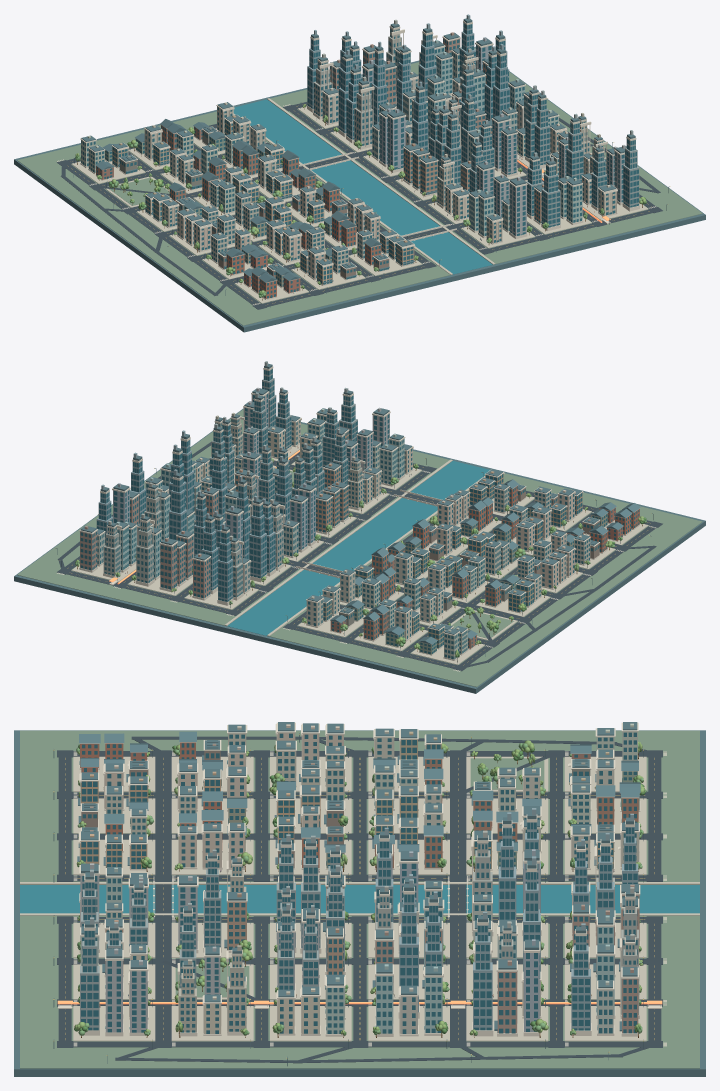
File: city_web.glb
3 renders of one model, top to bottom at view 1: azimuth 30°, elevation 25°; view 2: azimuth 150°, elevation 25°; view 3: azimuth 270°, elevation 25°, orthographic. The views are drawn at different scales.
Visible parts, largest first — view 1: Two riverbanks, River • fictional coordinates, All block sidewalks, City foundation, All intersection surfaces • no overlapping faces, B151 • Innovation District, B025 • Civic Terrace, B032 • Civic Terrace, River retaining walls, B121 • Innovation District, B020 • Civic Terrace, B097 • Civic Terrace (+37 smaller); view 2: Two riverbanks, River • fictional coordinates, All block sidewalks, City foundation, All intersection surfaces • no overlapping faces, B155 • Innovation District, B198 • Innovation District, River retaining walls, B191 • Innovation District, B162 • Innovation District, B197 • Innovation District, B203 • Innovation District (+38 smaller); view 3: Two riverbanks, All block sidewalks, City foundation, River • fictional coordinates, All intersection surfaces • no overlapping faces, All lane dashes and crossings, B164 • Innovation District, River retaining walls, B032 • Civic Terrace, B200 • Innovation District, B135 • Innovation District, B166 • Innovation District (+100 smaller).
Boxes of the visible parts, x1,y1,x2,y2 form: Two riverbanks: (17,48,702,325); River • fictional coordinates: (233,99,492,274); All block sidewalks: (71,95,648,303); City foundation: (14,46,705,332); All intersection surfaces • no overlapping faces: (57,105,662,309); B151 • Innovation District: (353,76,374,149); B025 • Civic Terrace: (541,157,560,231); B032 • Civic Terrace: (622,130,639,211); River retaining walls: (233,98,495,274); B121 • Innovation District: (387,109,406,172); B020 • Civic Terrace: (508,177,527,238); B097 • Civic Terrace: (534,90,550,168); Two riverbanks: (17,409,702,687); River • fictional coordinates: (227,461,489,635); All block sidewalks: (71,444,648,664); City foundation: (14,408,705,693); All intersection surfaces • no overlapping faces: (57,464,662,671); B155 • Innovation District: (249,496,267,582); B198 • Innovation District: (135,513,154,586); River retaining walls: (225,459,485,636); B191 • Innovation District: (217,523,233,605); B162 • Innovation District: (169,469,186,539); B197 • Innovation District: (159,538,177,592); B203 • Innovation District: (103,521,121,577); Two riverbanks: (20,730,699,1068); All block sidewalks: (73,756,646,1041); City foundation: (14,730,705,1076); River • fictional coordinates: (20,885,699,913); All intersection surfaces • no overlapping faces: (57,736,662,1063); All lane dashes and crossings: (65,751,666,1046); B164 • Innovation District: (472,911,493,1036); River retaining walls: (20,882,699,915); B032 • Civic Terrace: (79,917,99,1035); B200 • Innovation District: (570,923,591,1035); B135 • Innovation District: (398,879,419,1018); B166 • Innovation District: (494,959,517,1036).
Size of the model in its own units: 392 by 78.2 by 338.
